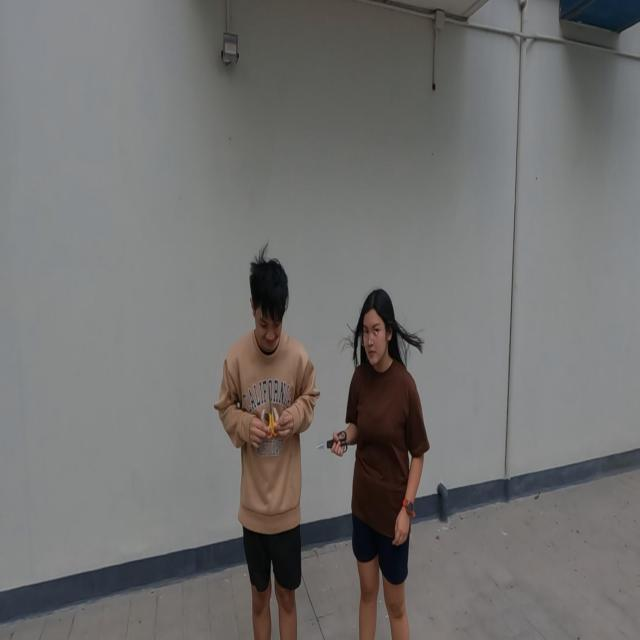scissor: (315, 429, 348, 455), (265, 383, 280, 439)
